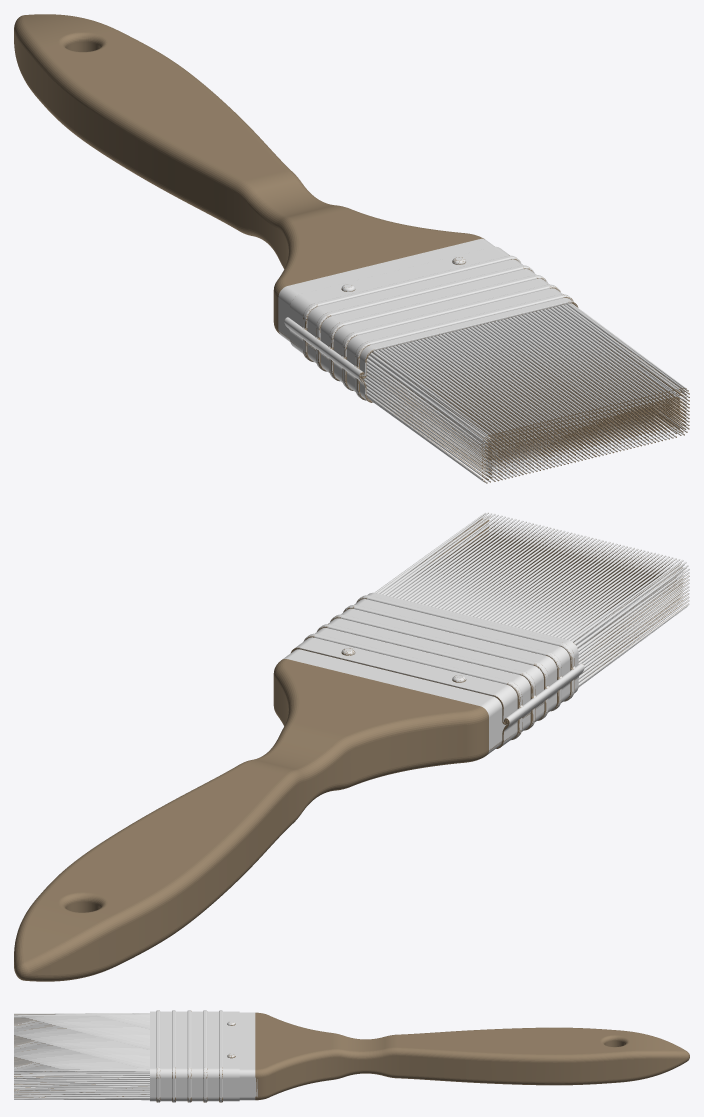
Rendered from player.fbx.
3 views of the same model, one above another, from view 1: azimuth 30°, elevation 25°; view 2: azimuth 150°, elevation 25°; view 3: azimuth 270°, elevation 25° (orthographic). The views are drawn at different scales.
Parts seen in each view (by area): view 1: Paint Brushg_02e (repaired); view 2: Paint Brushg_02e (repaired); view 3: Paint Brushg_02e (repaired).
Part boxes in pixels (x1,y1,x2,y2): Paint Brushg_02e (repaired): [14, 14, 689, 483]; Paint Brushg_02e (repaired): [14, 512, 689, 981]; Paint Brushg_02e (repaired): [14, 1010, 689, 1102].
Bounding box in the file's own units: 7301 × 1903 × 32331.
